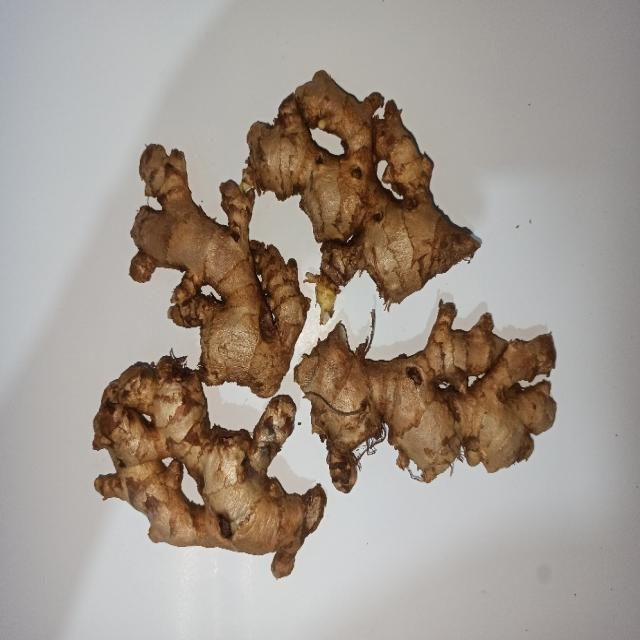ginger: (253, 70, 482, 298), (128, 141, 300, 396), (308, 316, 560, 484), (93, 375, 307, 556)
